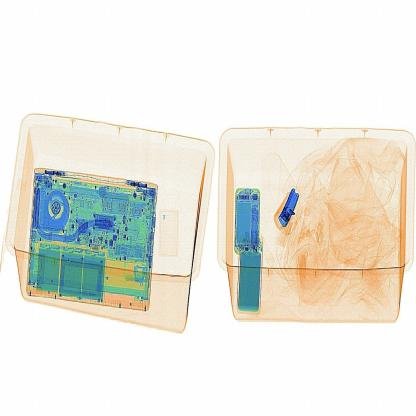gun: (269, 181, 310, 239)
